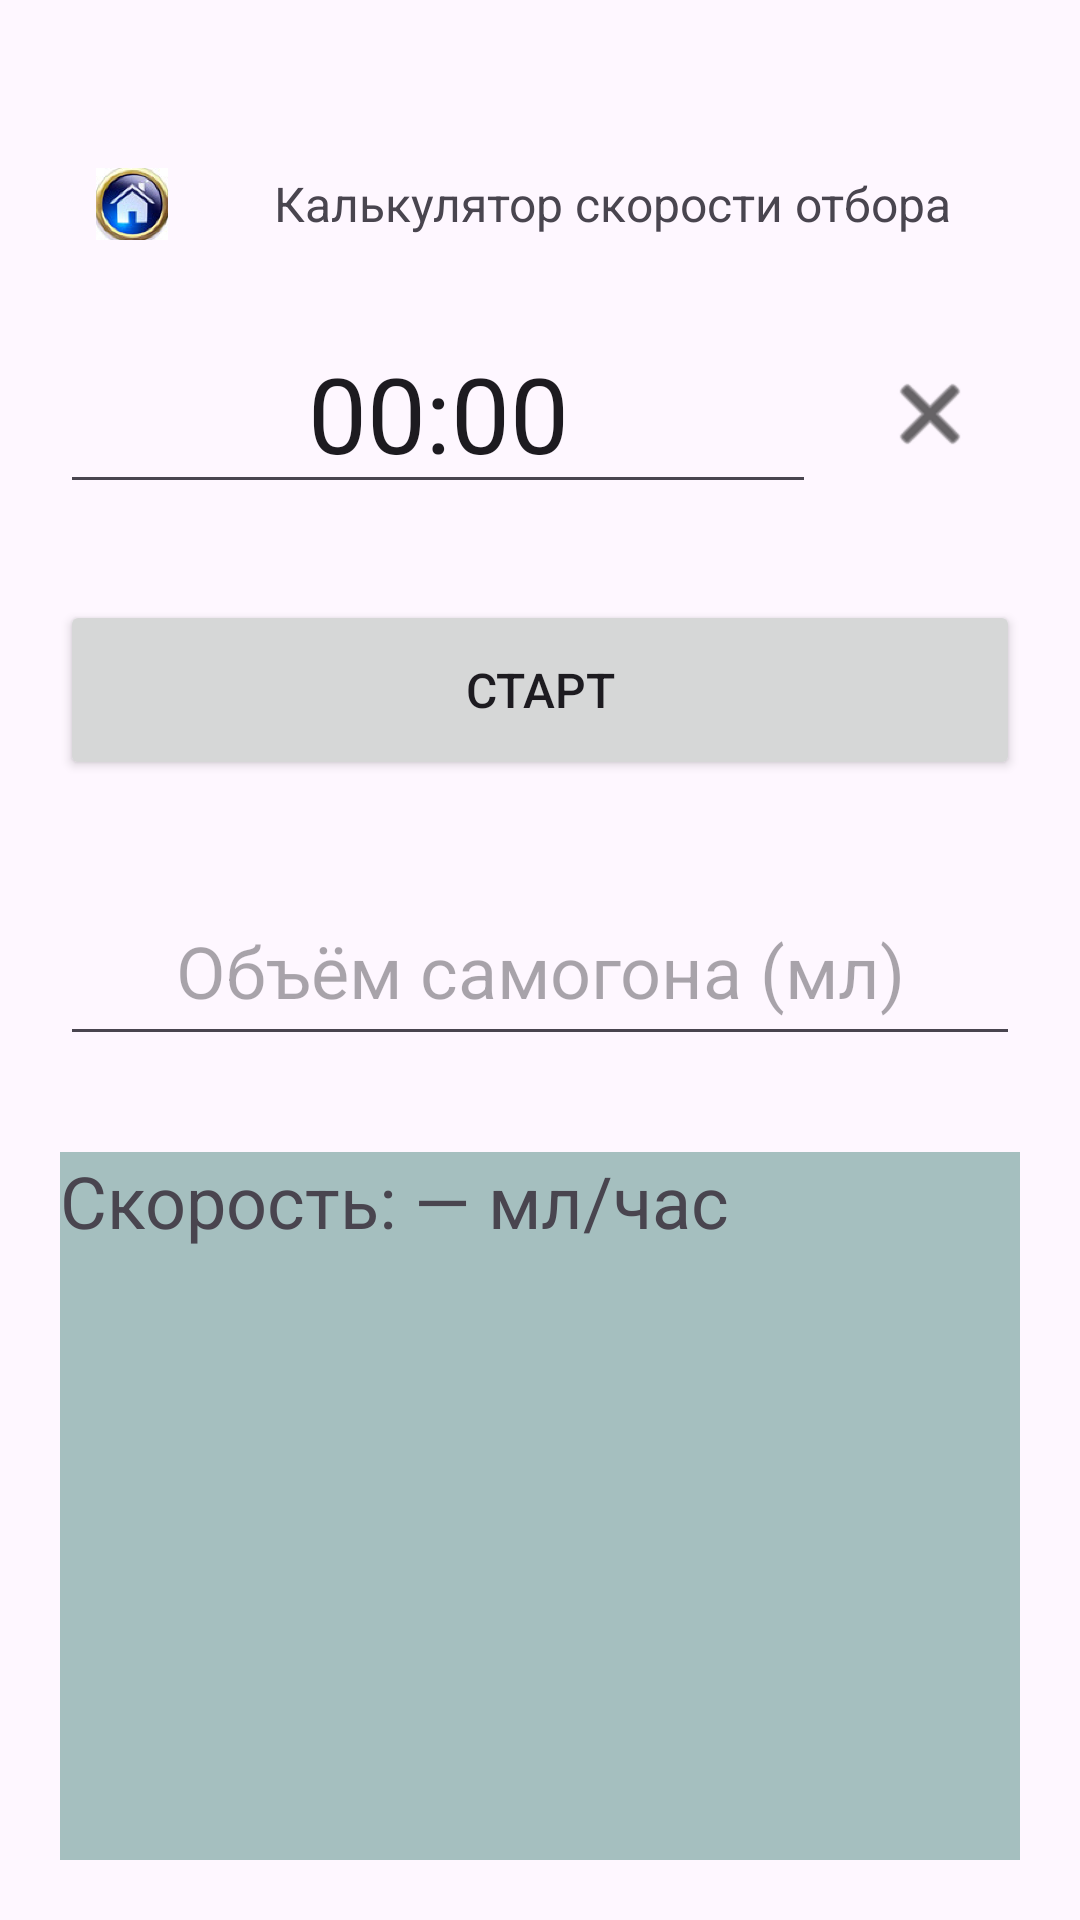

Where to tap for icons on this 1080 x 1920 app screen, as [x,y]:
На главную: [132,204]
Сбросить ввод: [930,414]
